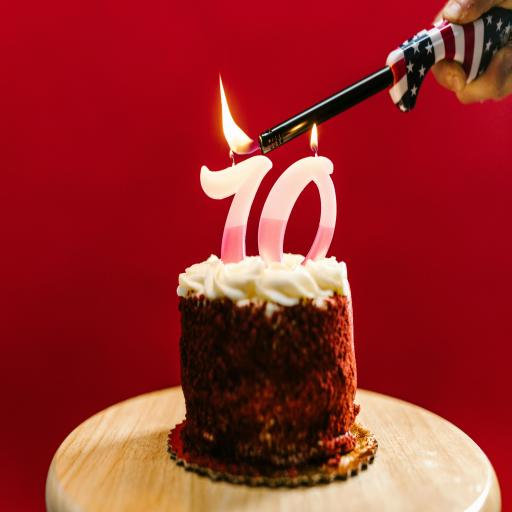candlelight: (192, 78, 262, 262), (279, 94, 333, 270)
fire: (213, 78, 248, 156)
